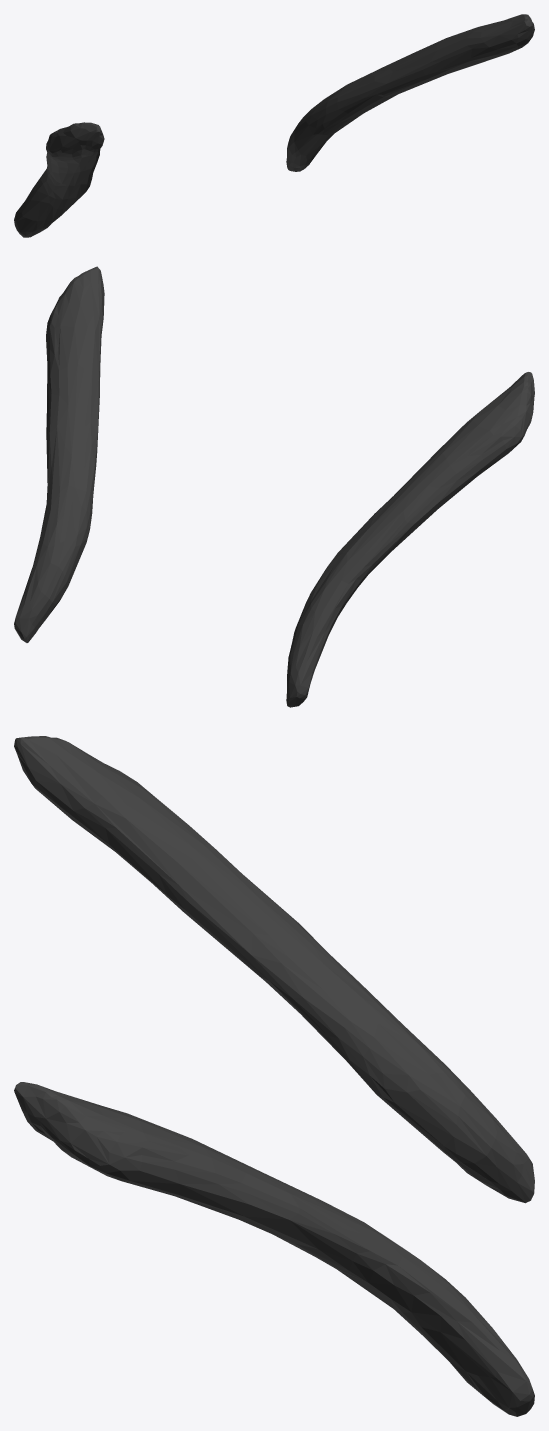
Rendered from m_iliacus.glb.
3 views of the same model, one above another, from view 1: azimuth 30°, elevation 25°; view 2: azimuth 150°, elevation 25°; view 3: azimuth 270°, elevation 25° (orthographic). The views are drawn at different scales.
Visible parts, largest first — view 1: m_iliacus; view 2: m_iliacus; view 3: m_iliacus.
Boxes of the visible parts, left/top/right/bottom form: m_iliacus: left=14, top=14, right=534, bottom=237; m_iliacus: left=14, top=266, right=534, bottom=707; m_iliacus: left=14, top=736, right=534, bottom=1416.
Bounding box in the file's own units: 0.00739 × 0.00363 × 0.0043.
1 material, 1 textured.
